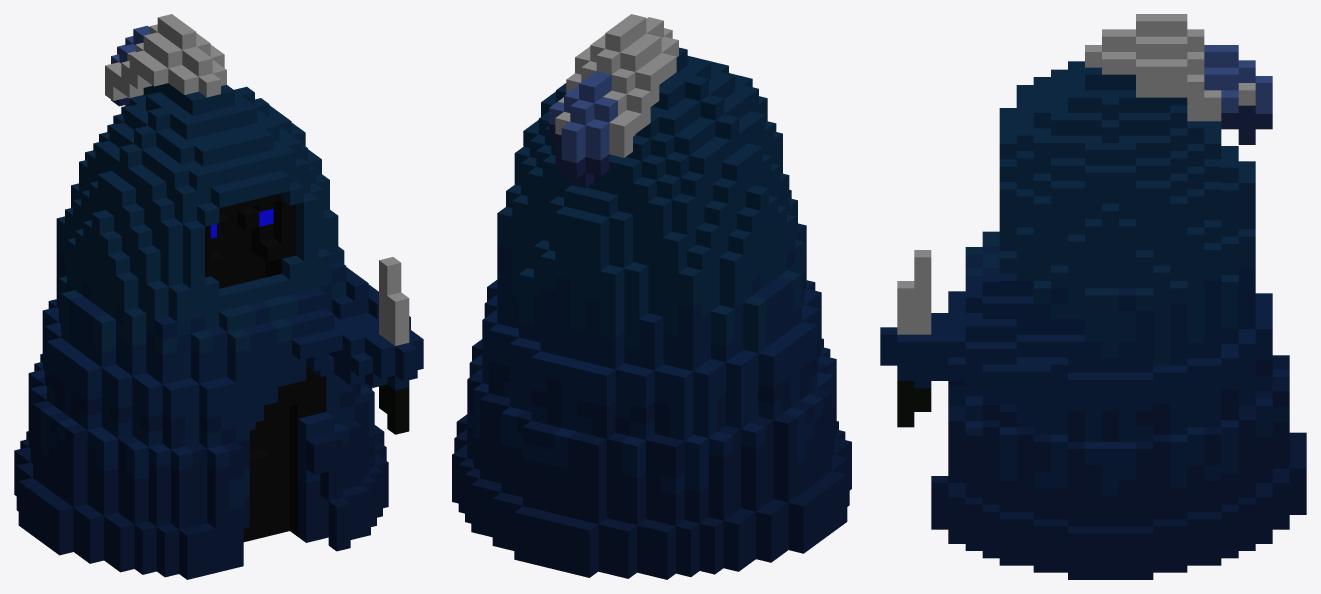
The model's file is Warrior.obj.
The picture shows the model from 3 angles, left to right: view 1: azimuth 30°, elevation 25°; view 2: azimuth 150°, elevation 25°; view 3: azimuth 270°, elevation 25°; orthographic projection. The views are drawn at different scales.
Bounding box in the file's own units: 2.3 × 3.1 × 2.5.
1 material, 1 textured.
